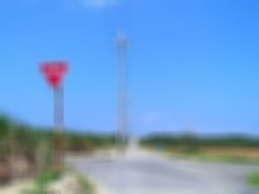Regulatory_sign_triangle: (36, 61, 74, 94)
